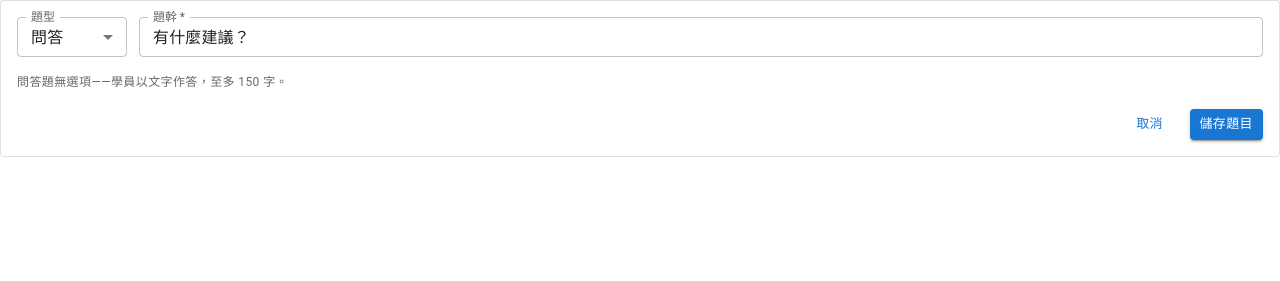
Test: 問卷題目編輯器：切換題型 › 由問答切回單選會補回兩個空選項
Click the dropdown named "題型": {"x": 47, "y": 37} [31,28,63,46]
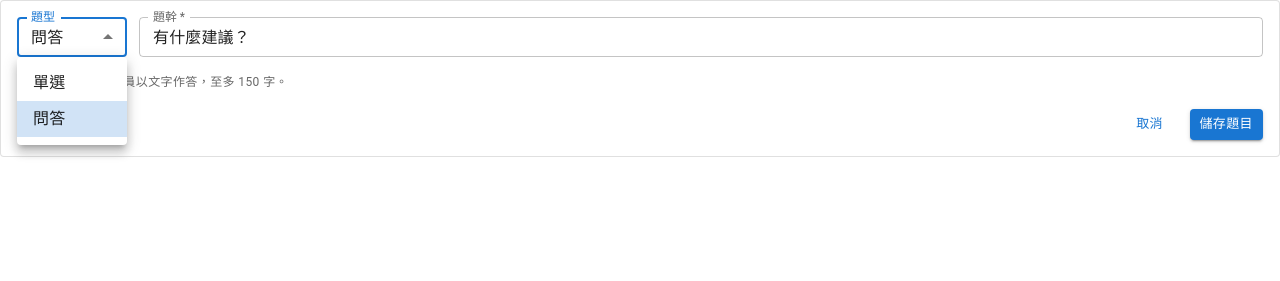
Click the option "單選": {"x": 49, "y": 82} [33,73,65,92]
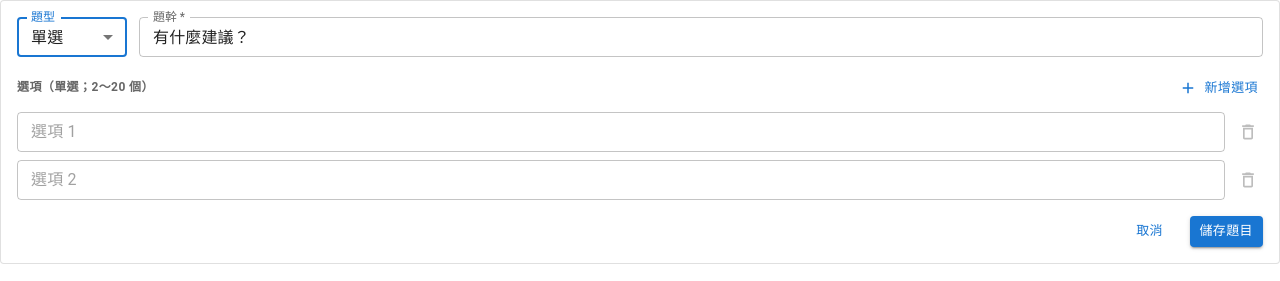
Now the number of fields labelled "選項 1" is 2, box [17,112,1225,152]; [17,160,1225,200]
